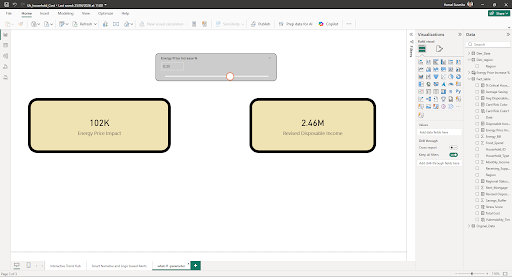

The dashboard page shown, as its layout file describes it:
{"tool":"powerbi","page":{"name":"what-If -parameter","canvas":[1280,720],"ordinal":2},"visuals":[{"type":"slicer","fields":{"Values":["Energy Price Increase %.Energy Price Increase %"]},"box":[467.8,77.8,392,90.5],"z":0},{"type":"card","fields":{"Values":["Fact_table.Energy Price Impact"]},"box":[55.4,222.7,462,178],"z":1000},{"type":"card","fields":{"Values":["Fact_table.Revised Disposable Income"]},"box":[771.3,222.7,410.5,178],"z":2000}]}

Visuals, with their boxes on the page's 1280x720 design canvas (x1, y1, x2, y2). These are canvas units, not pixel positions in the 512x277 screenshot, which may show the page scaled, cropped or inside an application window:
slicer - Energy Price Increase %.Energy Price Increase %: bbox(468, 78, 860, 168)
card - Fact_table.Energy Price Impact: bbox(55, 223, 517, 401)
card - Fact_table.Revised Disposable Income: bbox(771, 223, 1182, 401)
